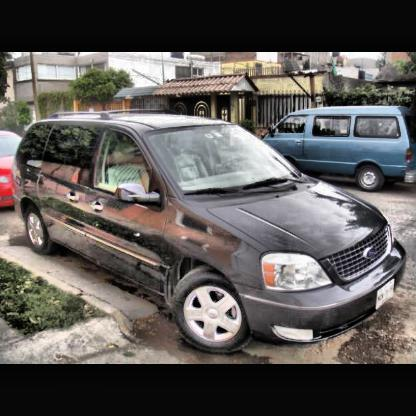Ford Freestar Minivan 2007: (13, 110, 407, 354)
